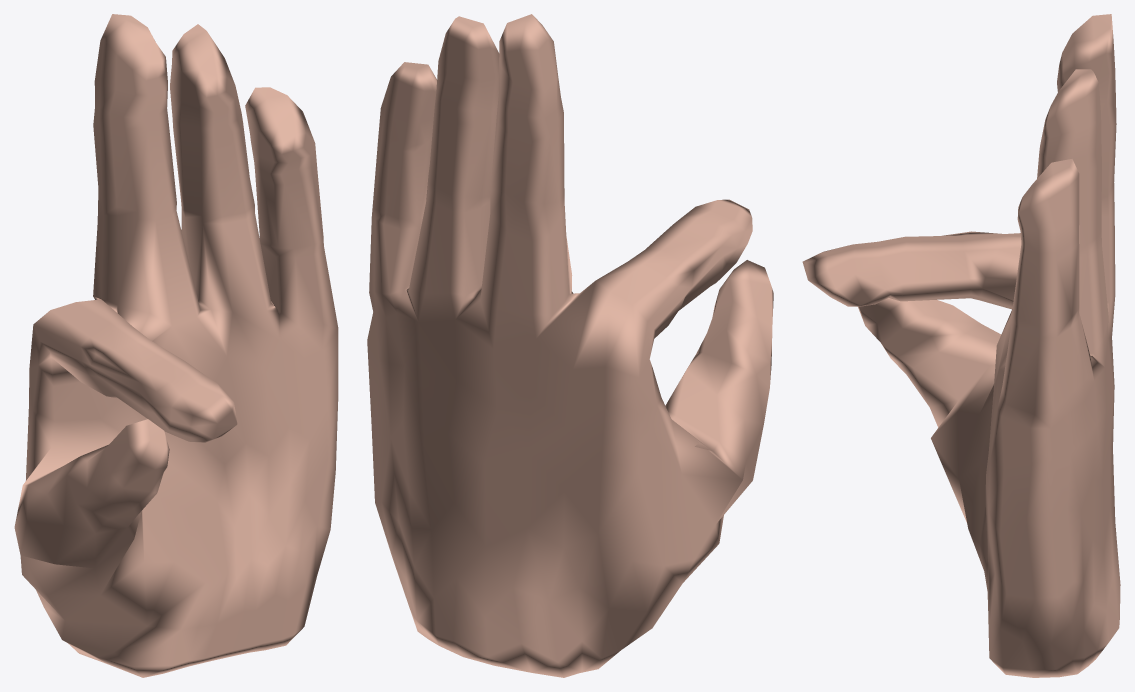
File: MAO_CERTO_RETA.obj
3 renders of one model, left to right at view 1: azimuth 30°, elevation 25°; view 2: azimuth 150°, elevation 25°; view 3: azimuth 270°, elevation 25°, orthographic. The views are drawn at different scales.
Visible parts, largest first — view 1: mao_dir polySurface1; view 2: mao_dir polySurface1; view 3: mao_dir polySurface1.
Part boxes in pixels (x1=…): mao_dir polySurface1: x1=14, y1=14, x2=338, y2=677; mao_dir polySurface1: x1=367, y1=14, x2=773, y2=677; mao_dir polySurface1: x1=802, y1=14, x2=1120, y2=677.
Size of the model in its own units: 136 by 243 by 116.
